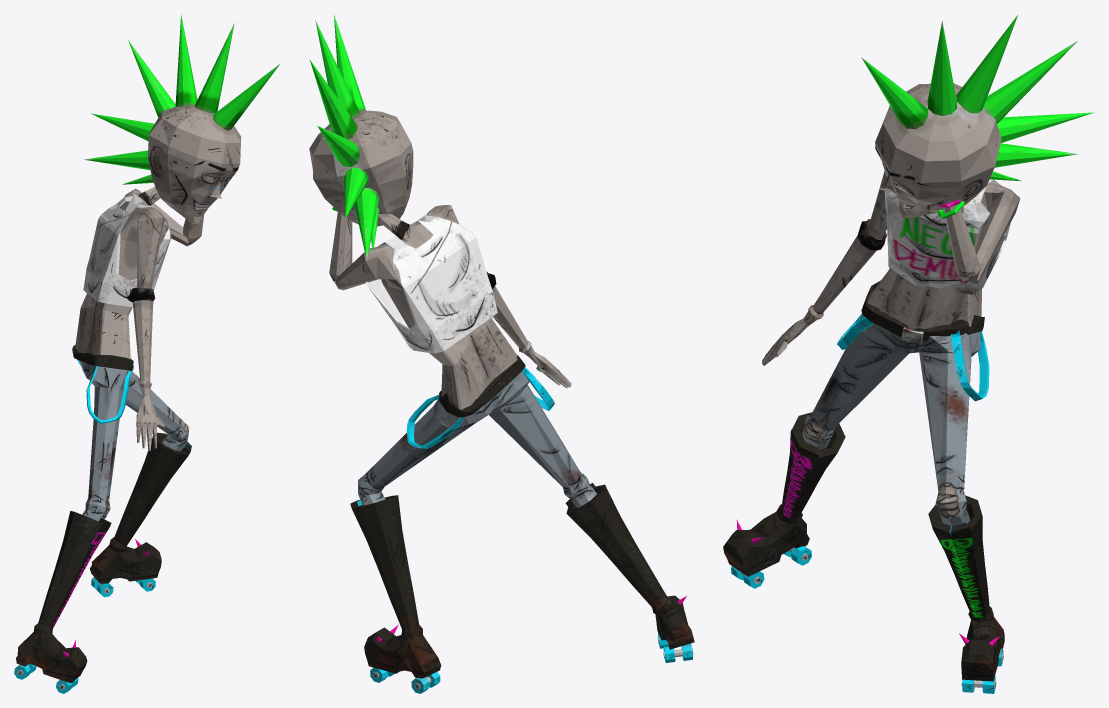
File: punkAnimation_000065.obj
3 renders of one model, left to right at view 1: azimuth 30°, elevation 25°; view 2: azimuth 150°, elevation 25°; view 3: azimuth 270°, elevation 25°, orthographic. The views are drawn at different scales.
Parts seen in each view (by area): view 1: Cube.004_Cube.003; view 2: Cube.004_Cube.003; view 3: Cube.004_Cube.003.
Boxes of the visible parts, <box> form: Cube.004_Cube.003: <box>14,14,279,693</box>; Cube.004_Cube.003: <box>309,15,694,693</box>; Cube.004_Cube.003: <box>723,14,1093,693</box>.
Bounding box in the file's own units: 3.68 × 6.67 × 3.12.
